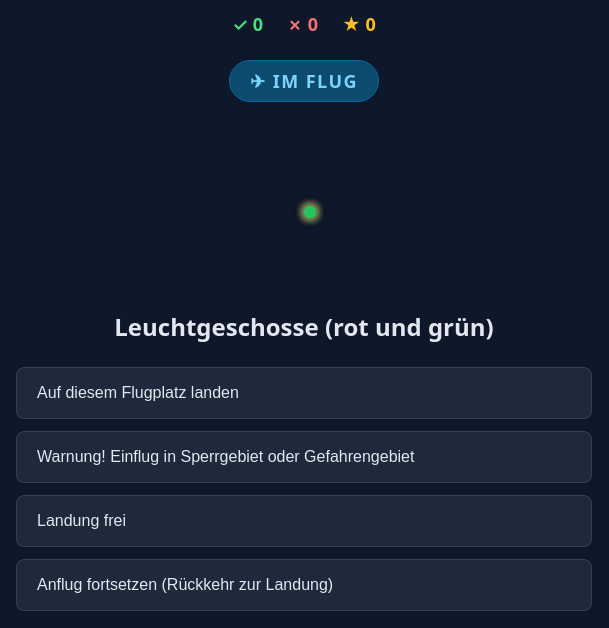
/+page.svelte › shows "Weiter" button after answering
The image size is (609, 628).
Click the button "Auf diesem Flugplatz landen" at (138, 392), box left=16, top=367, right=592, bottom=419
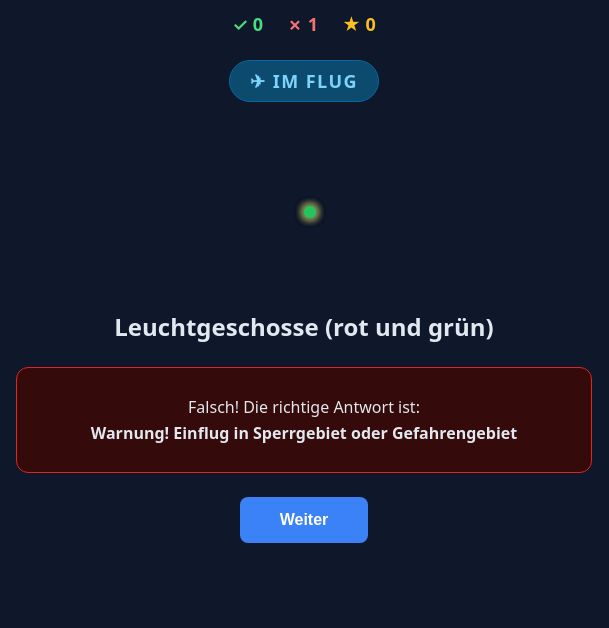
Check: the button "Weiter" is shown, box left=240, top=497, right=368, bottom=543
